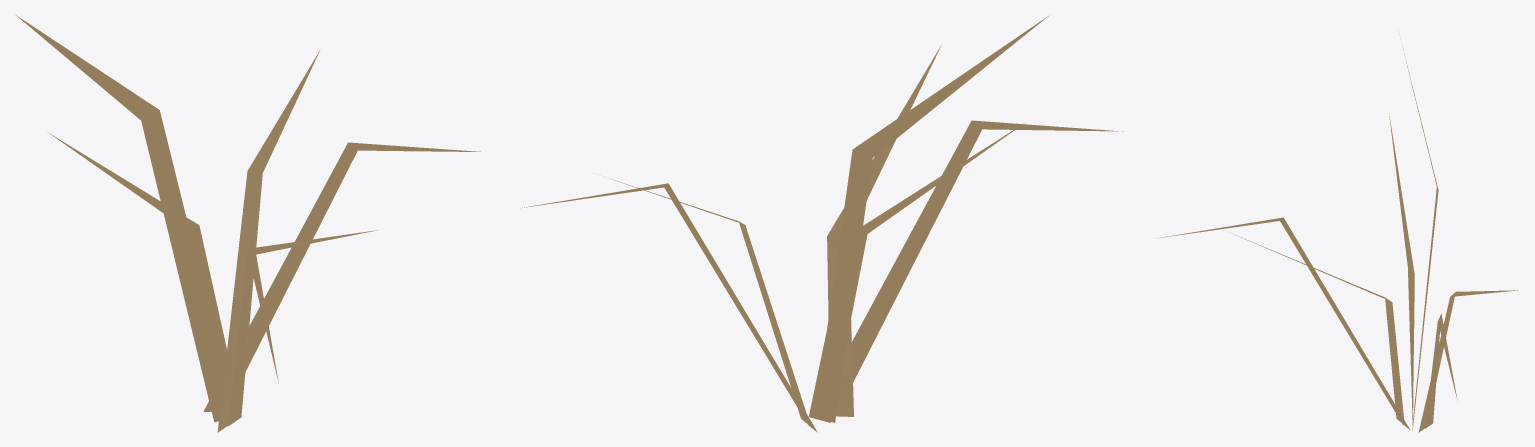
Rendered from Grass_h_OneS_02.fbx.
3 renders of one model, left to right at view 1: azimuth 30°, elevation 25°; view 2: azimuth 150°, elevation 25°; view 3: azimuth 270°, elevation 25°, orthographic. The views are drawn at different scales.
Parts seen in each view (by area): view 1: Grass_h_OneS_02; view 2: Grass_h_OneS_02; view 3: Grass_h_OneS_02.
Boxes of the visible parts, bbox=[...] form: Grass_h_OneS_02: bbox=[16, 15, 480, 432]; Grass_h_OneS_02: bbox=[520, 16, 1122, 432]; Grass_h_OneS_02: bbox=[1158, 46, 1518, 432].
Bounding box in the file's own units: 0.4759 × 0.4149 × 0.4136.
